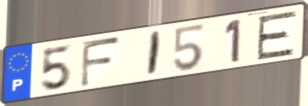1: (223, 17, 243, 65)
5: (172, 22, 207, 74), (39, 43, 74, 92)
E: (255, 9, 299, 62)
F: (79, 35, 123, 89)
I: (145, 30, 164, 79)
